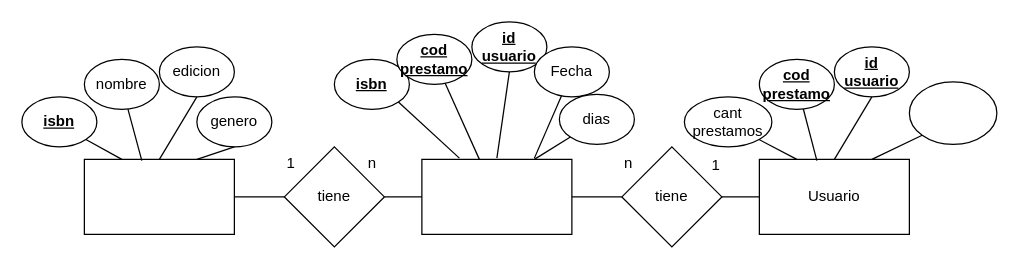
Some shapes in this 1019 by 269 pixel diagram are drawn without their labels. The box of each missing label's shape, as (x1, y1, x2, y2) in pixels:
Libro: (83, 158, 234, 234)
penalizacion: (908, 81, 997, 144)
Prestamo: (421, 158, 572, 234)
